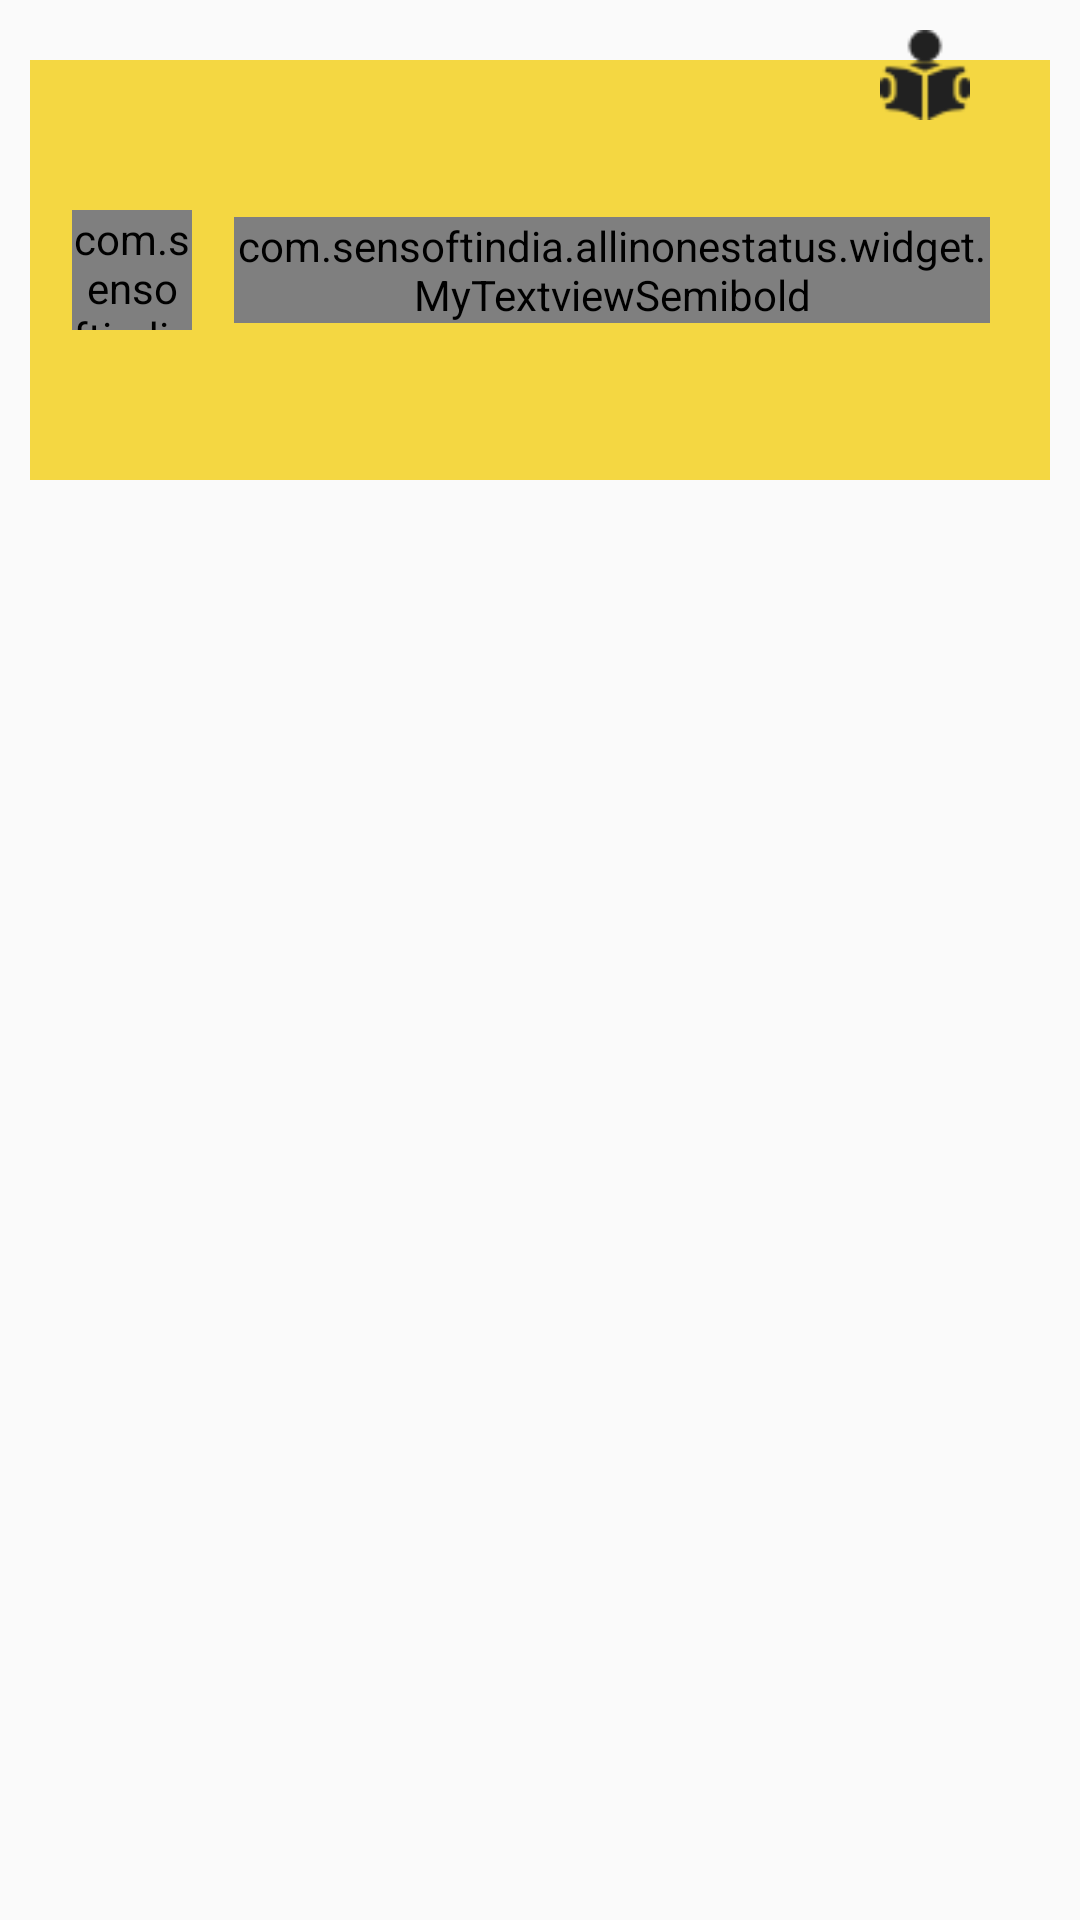

Icon click points for this 1080x1920 phone screenshot, format [x,y]:
read: [925,60]
